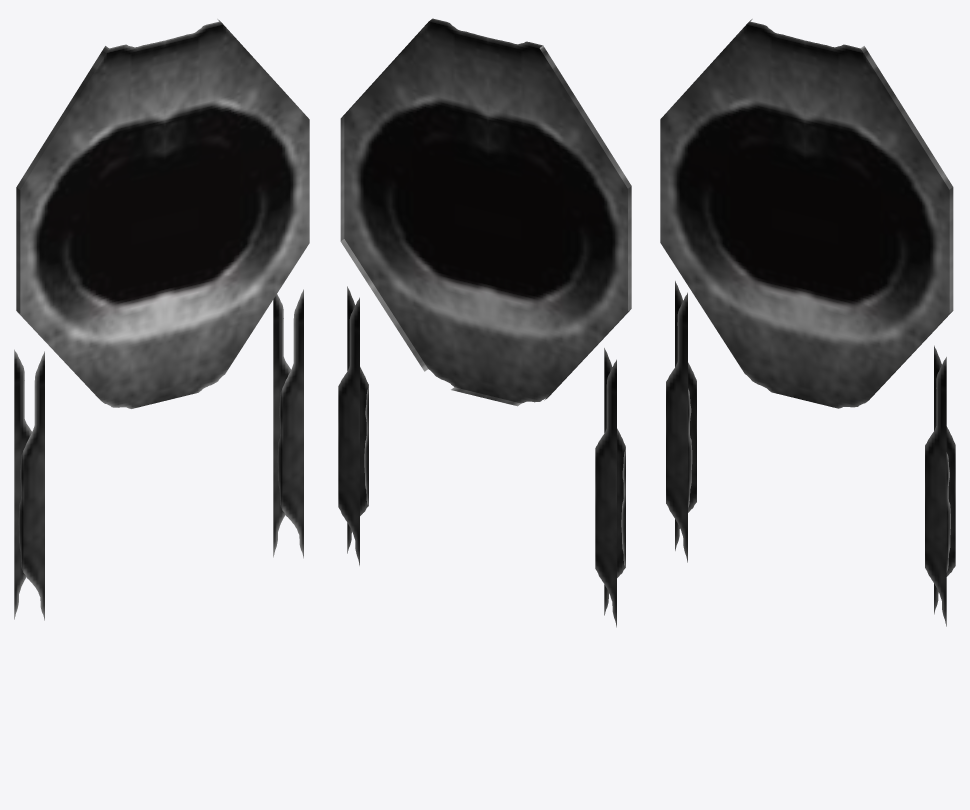
3 renders of one model, left to right at view 1: azimuth 30°, elevation 25°; view 2: azimuth 150°, elevation 25°; view 3: azimuth 330°, elevation 25°, orthographic.
Parts seen in each view (by area): view 1: Object02; view 2: Object02; view 3: Object02.
Boxes of the visible parts, x1=… form: Object02: x1=14, y1=19, x2=309, y2=620; Object02: x1=338, y1=18, x2=631, y2=627; Object02: x1=660, y1=19, x2=955, y2=626.
Size of the model in its own units: 24.55 by 1.51 by 59.49.
